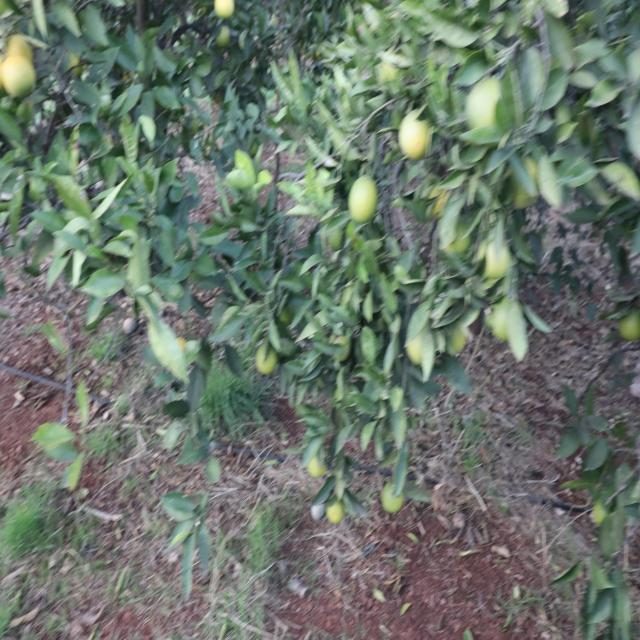Jeruk Belum Matang: (468, 79, 508, 140), (348, 176, 378, 225), (2, 58, 36, 100), (400, 112, 430, 158), (2, 34, 32, 66), (256, 343, 278, 375), (382, 481, 403, 512), (620, 308, 640, 338), (212, 0, 235, 19), (327, 502, 342, 524), (216, 26, 231, 46), (308, 456, 322, 474)
